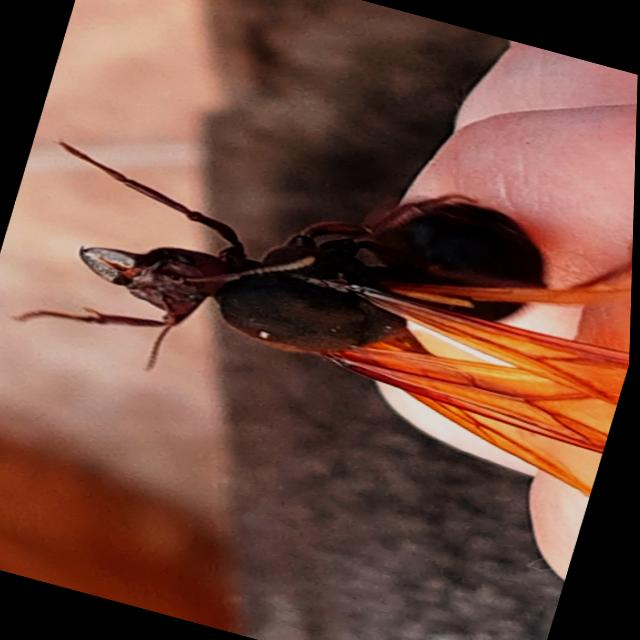Alive-Female-Alate: (0, 90, 638, 499)
